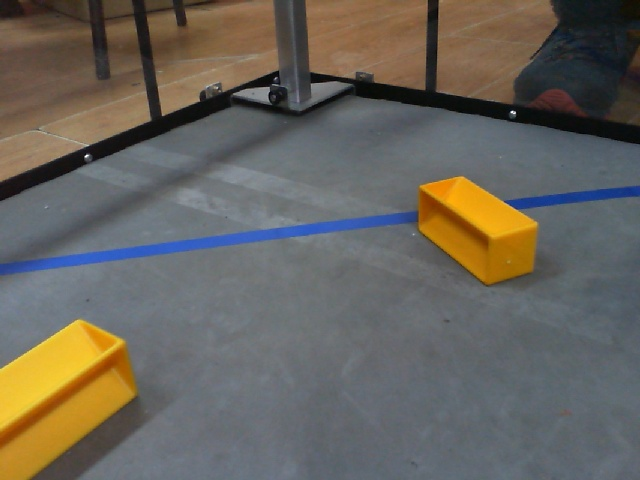YellowSample: (1, 314, 142, 480), (412, 172, 546, 285)
